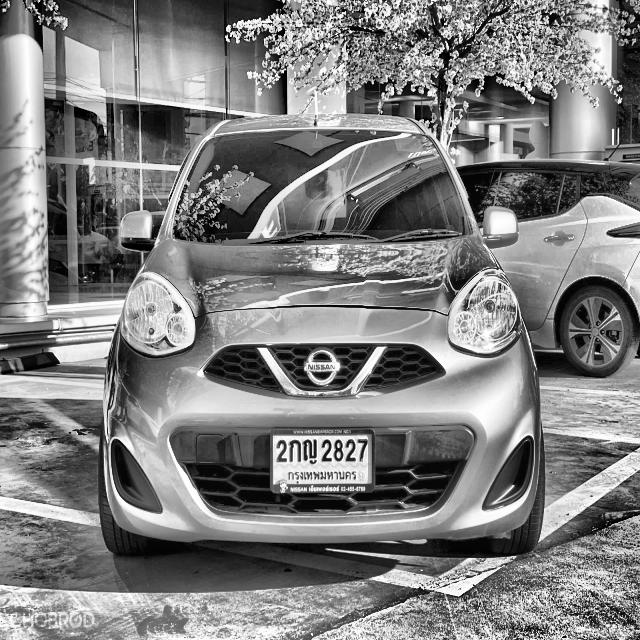license-plate: (269, 428, 378, 494)
